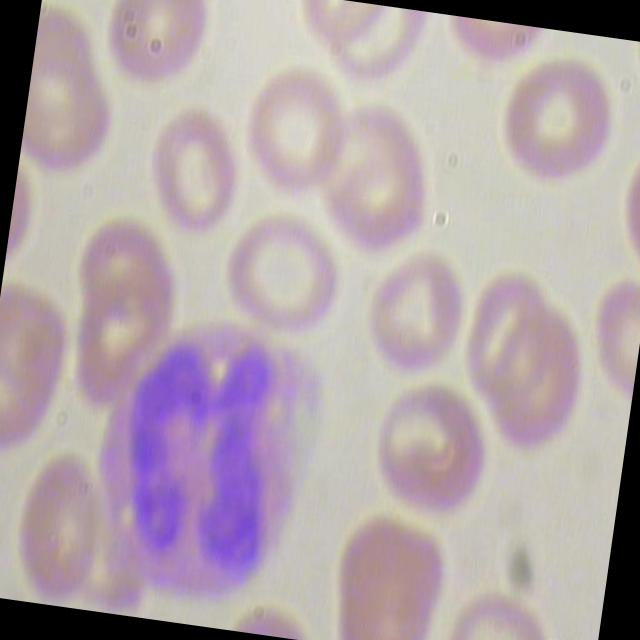RBC: (302, 94, 446, 267), (349, 372, 501, 528), (484, 48, 634, 191), (216, 208, 360, 346), (234, 63, 360, 210), (354, 244, 479, 391), (0, 446, 108, 610), (133, 96, 250, 247), (450, 267, 568, 414), (328, 513, 453, 640), (0, 274, 77, 459), (98, 0, 218, 99)
WBC: (76, 299, 352, 619)
